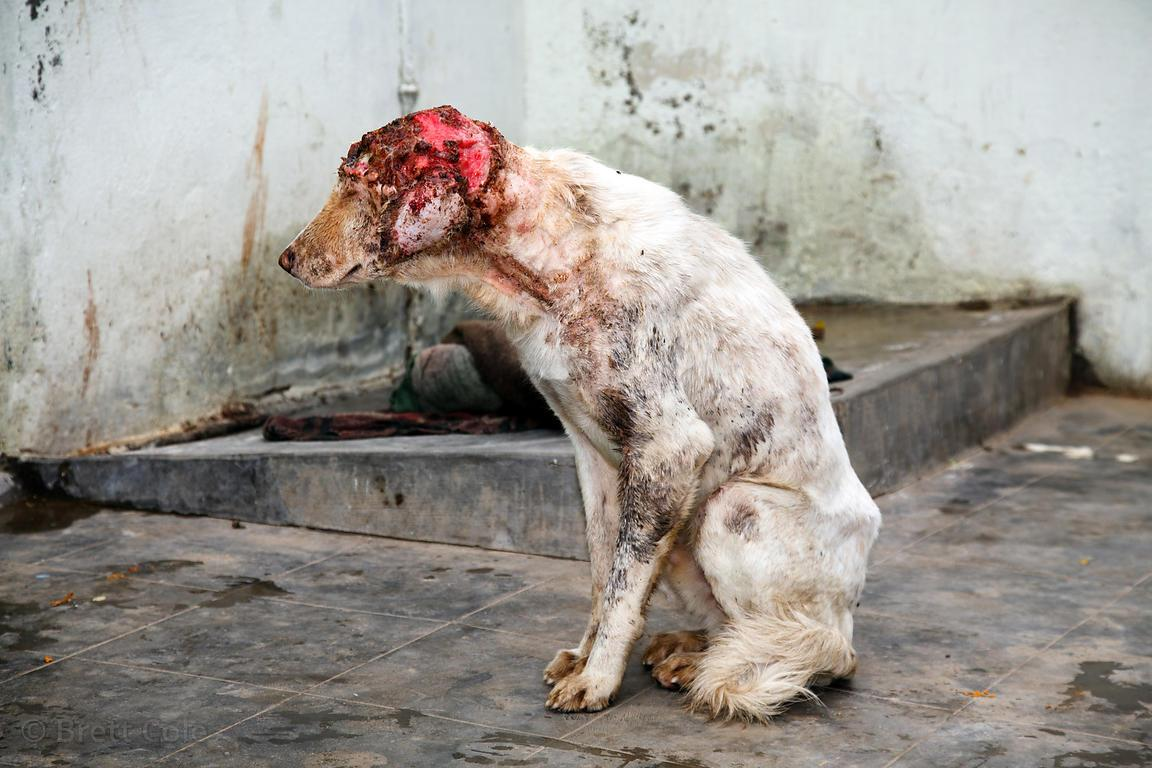cut: (321, 94, 515, 276)
